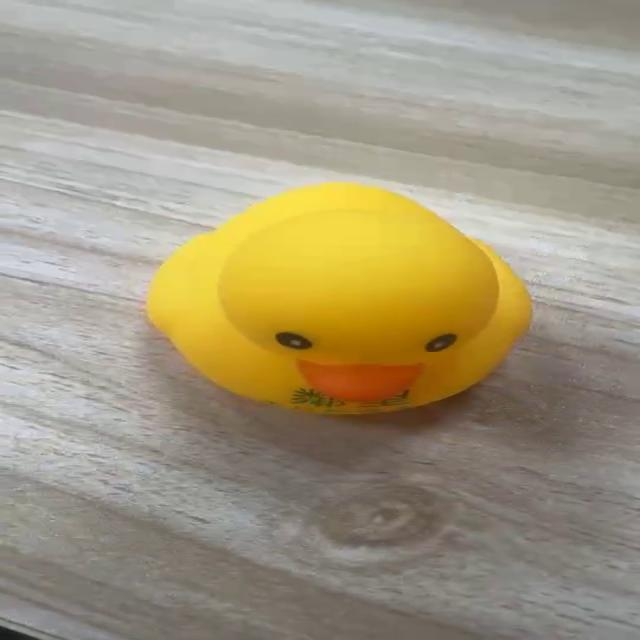yellow_duck: (142, 180, 534, 416)
